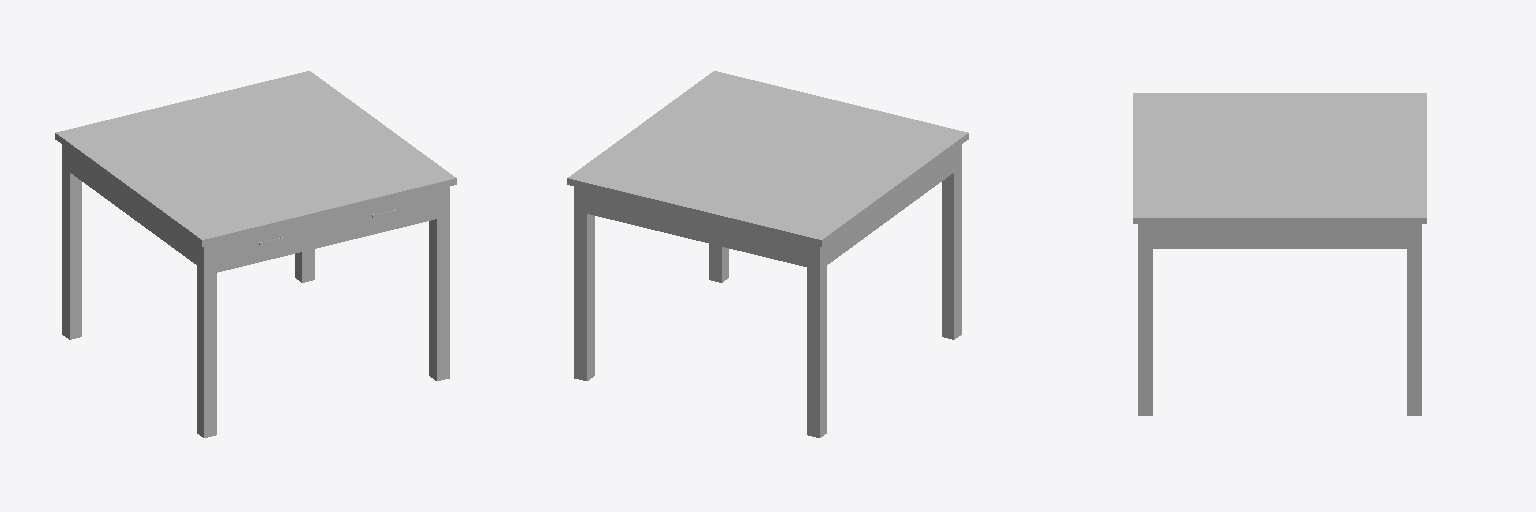
The model's file is 100x100cm Desk.obj.
The picture shows the model from 3 angles: view 1: azimuth 30°, elevation 25°; view 2: azimuth 150°, elevation 25°; view 3: azimuth 270°, elevation 25°; orthographic projection.
Parts seen in each view (by area): view 1: Mesh1 TableTop Model, Mesh5 TableLeg1 Model, Mesh6 TableLeg2 Model, Mesh8 TableLeg4 Model, Mesh11 TableSide3 Model, Mesh13 Drawer2 Model, Mesh12 Drawer1 Model, Mesh3 UnderDrawer Model, Mesh7 TableLeg3 Model; view 2: Mesh1 TableTop Model, Mesh10 TableSide2 Model, Mesh8 TableLeg4 Model, Mesh7 TableLeg3 Model, Mesh5 TableLeg1 Model, Mesh11 TableSide3 Model, Mesh6 TableLeg2 Model; view 3: Mesh1 TableTop Model, Mesh9 TableSide1 Model, Mesh6 TableLeg2 Model, Mesh7 TableLeg3 Model.
Part boxes in pixels (x1,y1,x2,y2): Mesh1 TableTop Model: (55, 71, 456, 246); Mesh5 TableLeg1 Model: (197, 243, 216, 437); Mesh6 TableLeg2 Model: (429, 187, 449, 380); Mesh8 TableLeg4 Model: (62, 145, 81, 339); Mesh11 TableSide3 Model: (70, 151, 196, 264); Mesh13 Drawer2 Model: (330, 190, 436, 239); Mesh12 Drawer1 Model: (217, 217, 323, 266); Mesh3 UnderDrawer Model: (217, 214, 436, 272); Mesh7 TableLeg3 Model: (295, 249, 314, 282); Mesh1 TableTop Model: (567, 71, 968, 246); Mesh10 TableSide2 Model: (587, 190, 806, 266); Mesh8 TableLeg4 Model: (807, 243, 826, 437); Mesh7 TableLeg3 Model: (574, 187, 594, 380); Mesh5 TableLeg1 Model: (942, 145, 961, 339); Mesh11 TableSide3 Model: (827, 151, 953, 264); Mesh6 TableLeg2 Model: (709, 244, 728, 282); Mesh1 TableTop Model: (1133, 93, 1426, 223); Mesh9 TableSide1 Model: (1153, 224, 1406, 248); Mesh6 TableLeg2 Model: (1138, 224, 1152, 415); Mesh7 TableLeg3 Model: (1407, 224, 1421, 415).
Size of the model in its own units: 100 by 75.51 by 100.